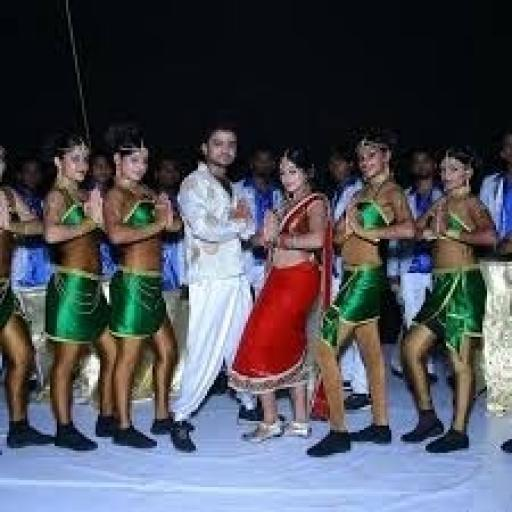dancing: (20, 82, 510, 450)
